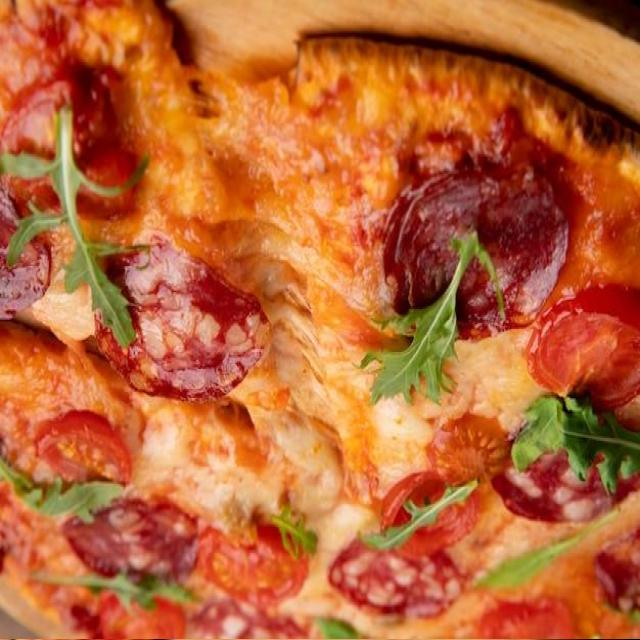basil: (0, 288, 151, 532), (352, 234, 504, 409), (511, 143, 640, 247), (471, 46, 621, 132), (362, 87, 480, 164), (0, 116, 127, 180), (34, 28, 196, 69), (270, 78, 320, 132), (312, 0, 364, 26)
pepperoni: (383, 298, 569, 471), (94, 235, 272, 396), (3, 413, 134, 570), (63, 54, 198, 140), (494, 113, 640, 189), (328, 19, 464, 98), (0, 328, 50, 424), (193, 0, 308, 38), (596, 25, 640, 115)
pizza: (0, 0, 640, 639)
